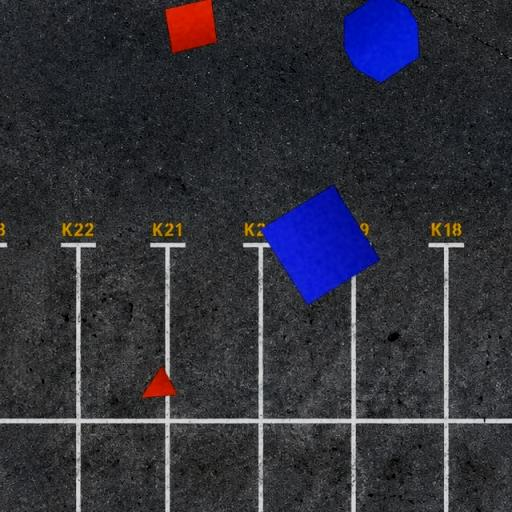BLUE_SQUARE: (259, 184, 381, 306)
RED_SQUARE: (164, 0, 217, 54)
